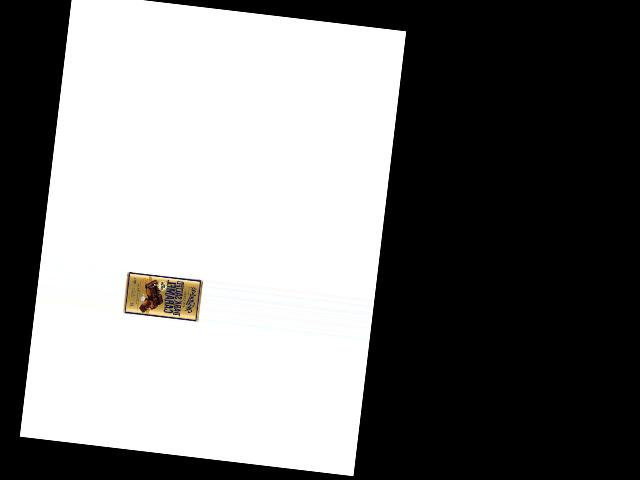chocolate: (120, 267, 202, 323)
